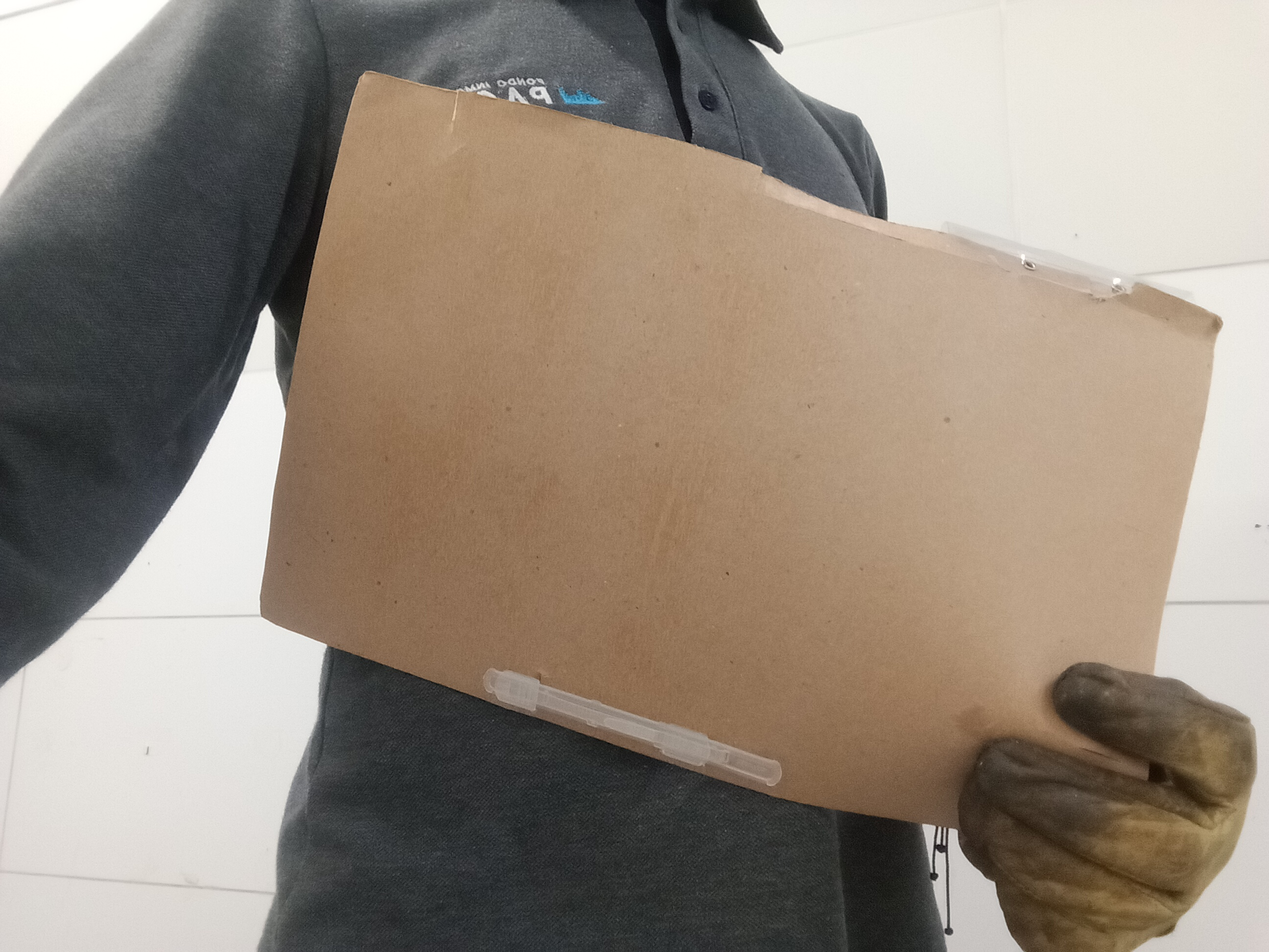Carton: (259, 70, 1220, 846)
